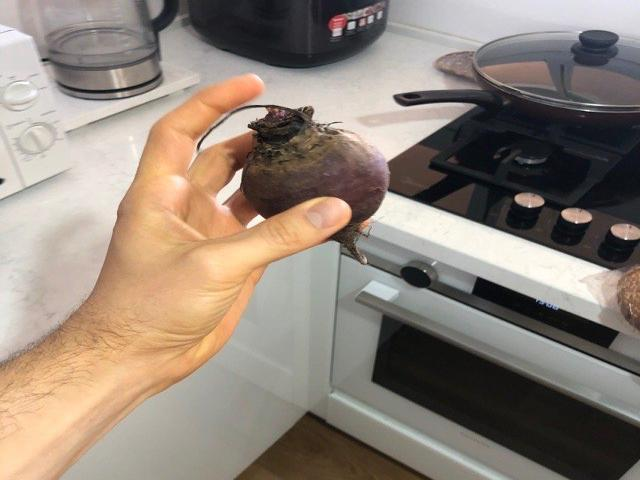beet: (199, 105, 388, 264)
